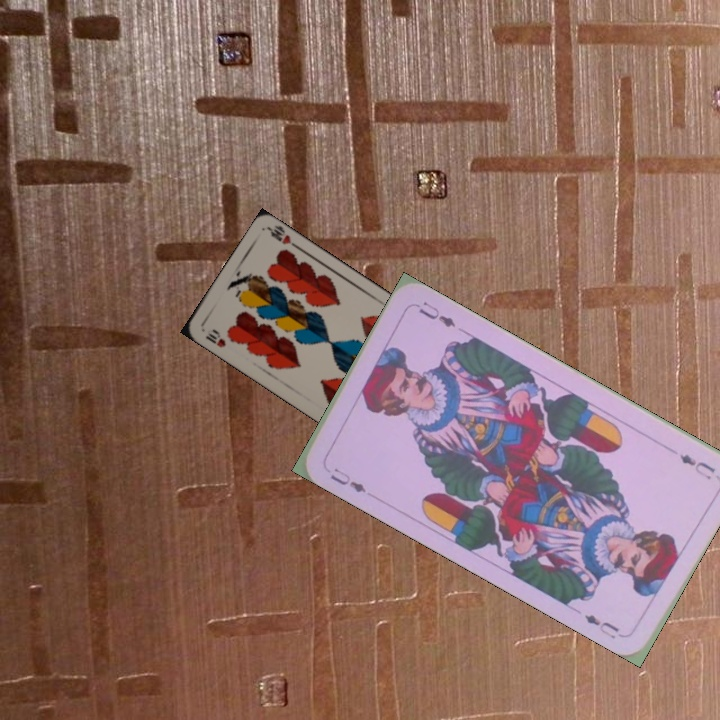EU: (675, 450, 718, 482), (326, 464, 369, 495)
H10: (201, 325, 229, 350)
